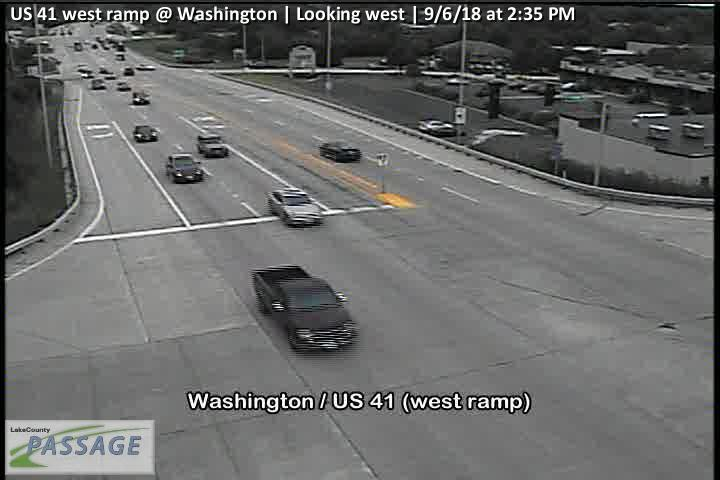SUV: (163, 153, 204, 184), (123, 67, 136, 75)
Sedan: (265, 185, 328, 230), (317, 139, 361, 164), (195, 133, 229, 158), (416, 118, 456, 137), (133, 124, 158, 144), (130, 89, 151, 104), (99, 66, 115, 80), (115, 80, 132, 91), (91, 78, 106, 90), (137, 64, 157, 72), (80, 70, 94, 78)
Truck: (251, 263, 360, 353)
